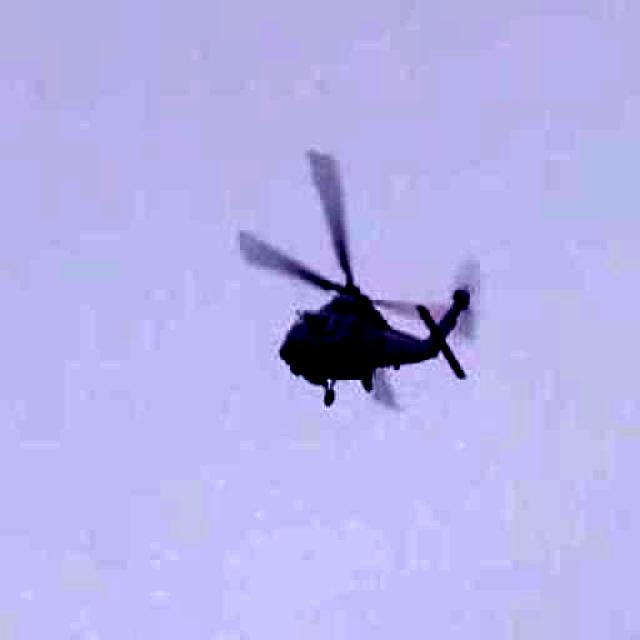drone: (211, 164, 499, 420)
